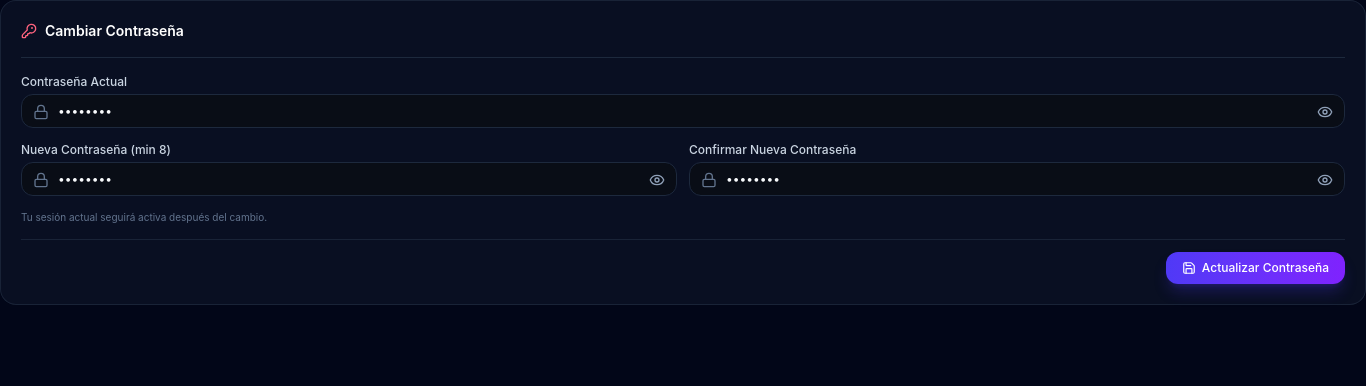
Test: ChangePasswordForm › shows the backend error and keeps the typed values
Type "actualPass123" into the password field labelled "Contraseña Actual" at (683, 111), box [21,94,1345,128]
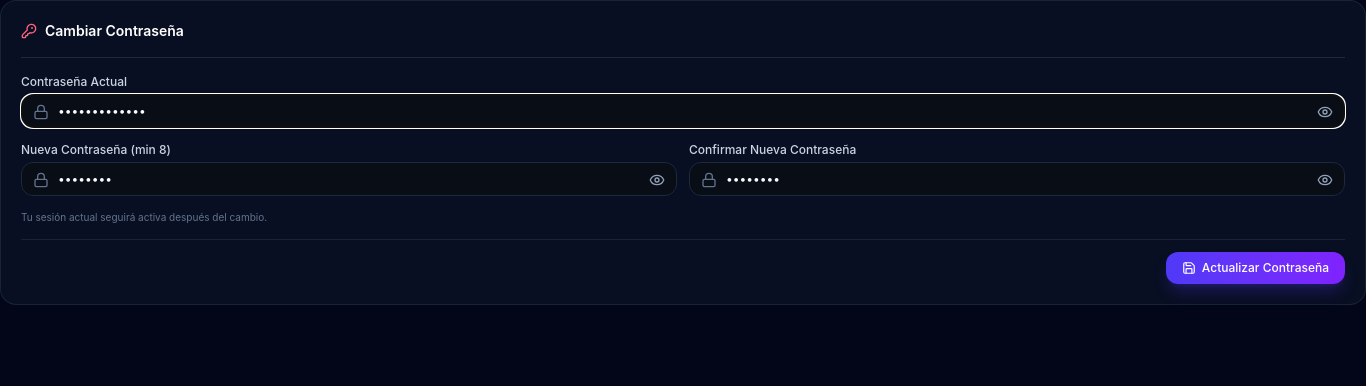
Type "nuevaPass456" into the password field labelled "Nueva Contraseña (min 8)" at (349, 179), box [21,162,677,196]
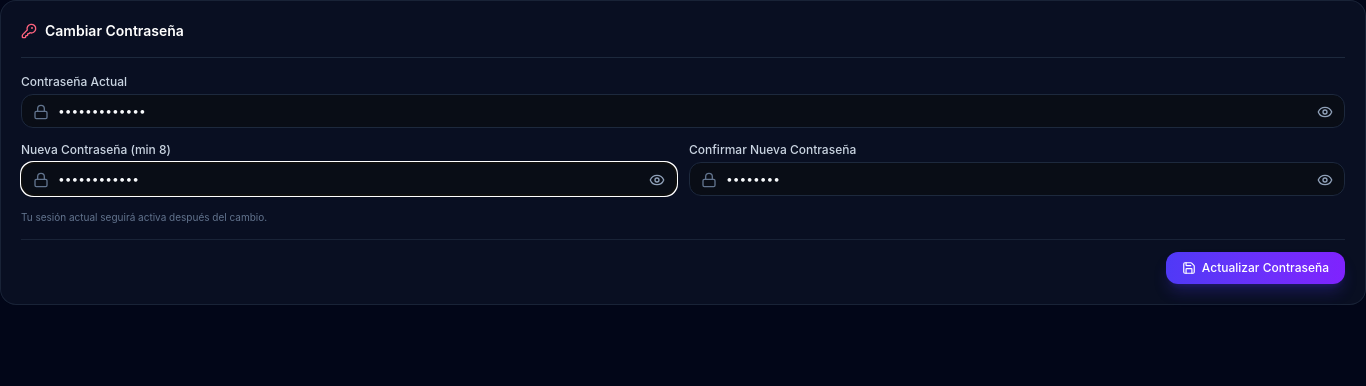
Type "nuevaPass456" into the password field labelled "Confirmar Nueva Contraseña" at (1017, 179), box [689,162,1345,196]
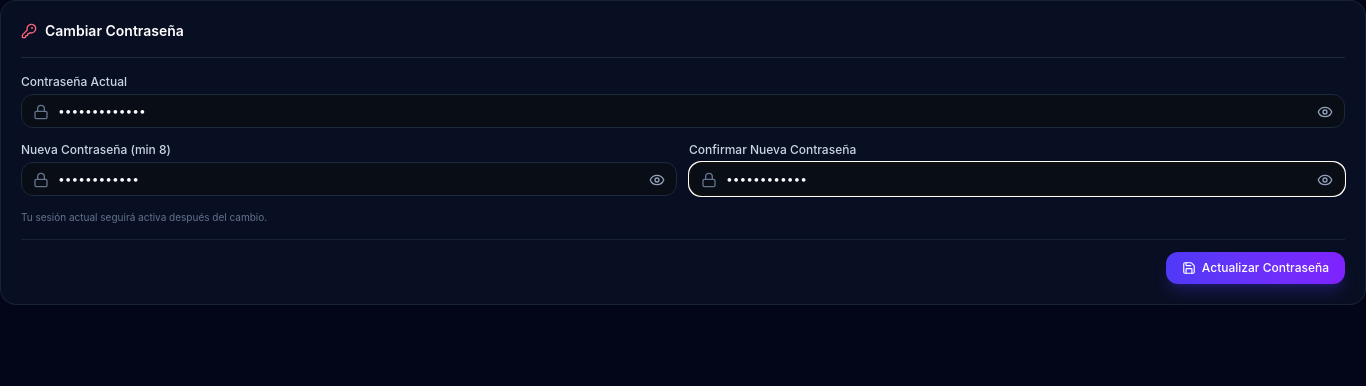
Click the button "Actualizar Contraseña" at (1255, 268), box [1166,252,1345,284]
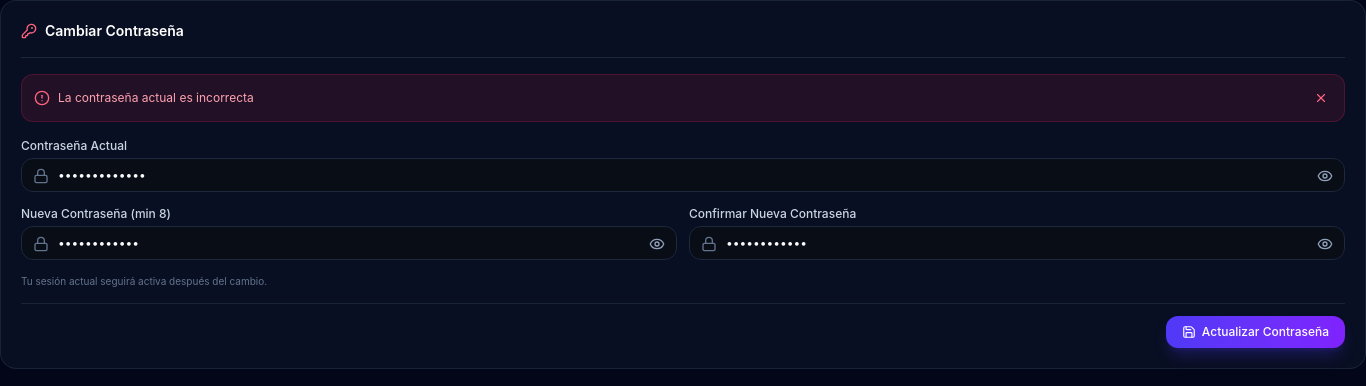
Result: the text "La contraseña actual es incorrecta" is shown at [58,90,254,106]
